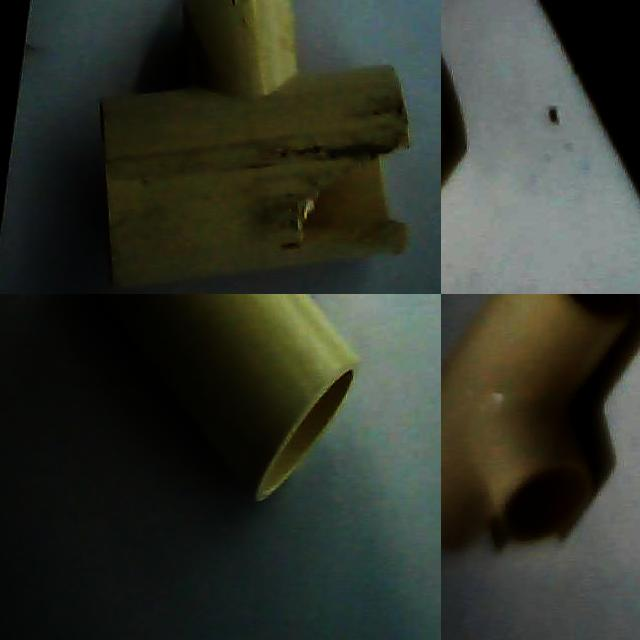Defective: (288, 134, 402, 245)
T Joint: (100, 0, 411, 292), (93, 294, 360, 505), (441, 294, 635, 551)
